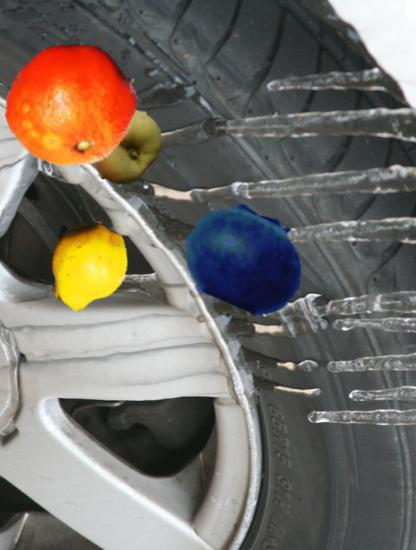Clementine: (5, 37, 140, 172)
Huckleberry: (184, 197, 307, 320)
Peach: (85, 106, 165, 186)
Quince: (42, 221, 135, 314)
